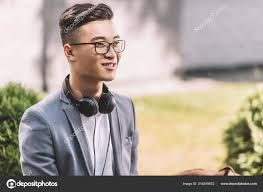no-mask: (57, 6, 128, 86)
